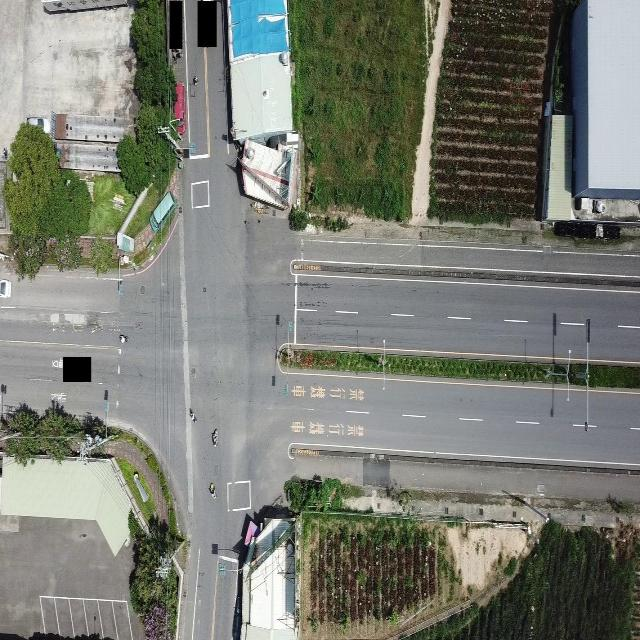bike: (116, 330, 131, 350), (210, 426, 218, 445), (189, 407, 197, 424), (208, 479, 215, 498), (172, 52, 184, 62), (193, 75, 198, 87)
bus: (169, 78, 190, 138), (149, 192, 175, 232)
car: (25, 114, 45, 135), (0, 278, 12, 300)
